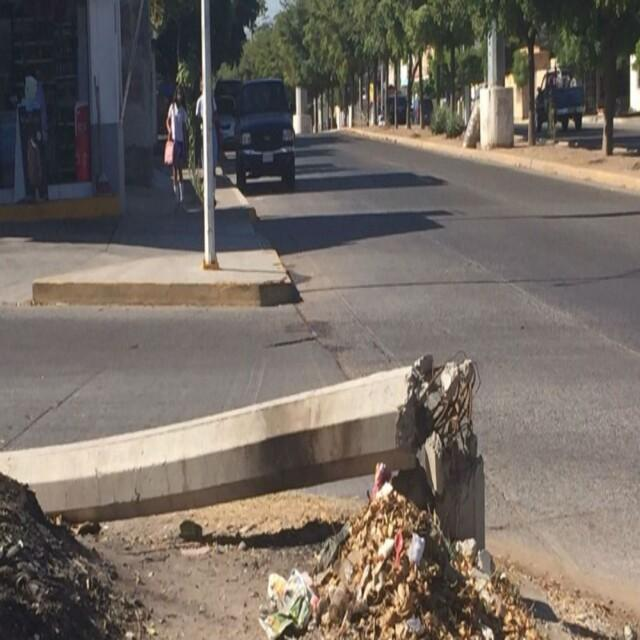Inclined Pole: (2, 353, 528, 640)
